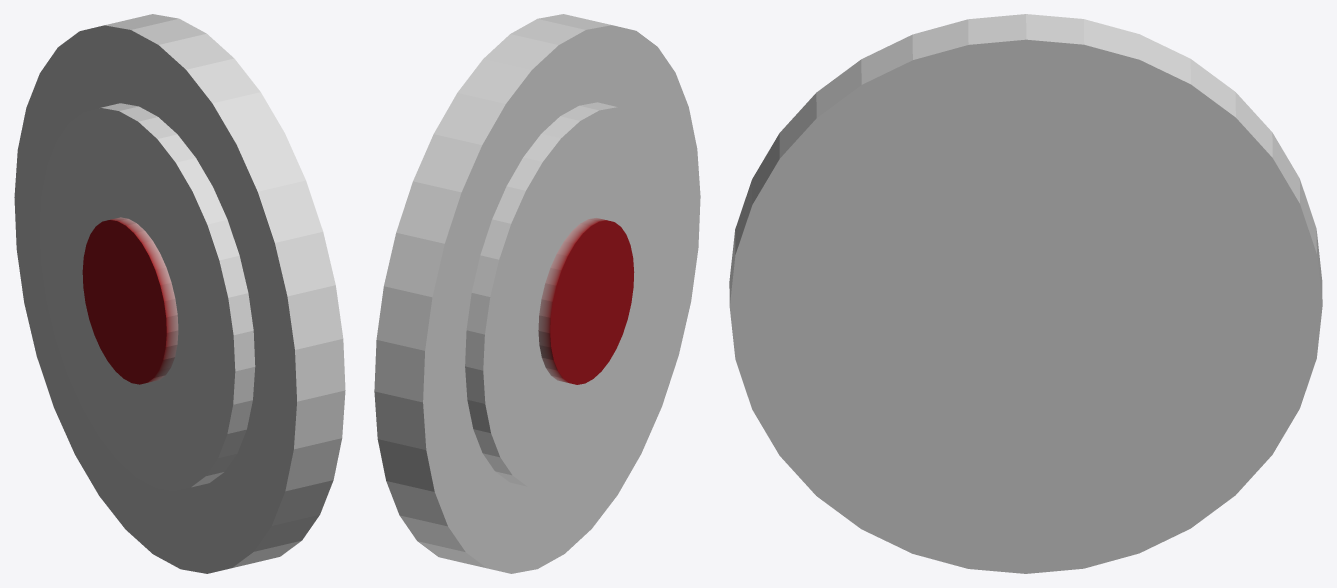
3 views of the same model, side by side, from view 1: azimuth 30°, elevation 25°; view 2: azimuth 150°, elevation 25°; view 3: azimuth 270°, elevation 25° (orthographic). The views are drawn at different scales.
Visible parts, largest first — view 1: Cylinder, Cylinder.001, Cylinder.002; view 2: Cylinder, Cylinder.001, Cylinder.002; view 3: Cylinder.
Part boxes in pixels (box(x1,y1,x2,y2)): Cylinder: box(14, 14, 345, 573); Cylinder.001: box(39, 103, 255, 491); Cylinder.002: box(82, 217, 178, 384); Cylinder: box(374, 14, 700, 573); Cylinder.001: box(465, 102, 679, 490); Cylinder.002: box(538, 218, 634, 384); Cylinder: box(729, 14, 1322, 573).
Size of the model in its own units: 34.43 by 200 by 200.
